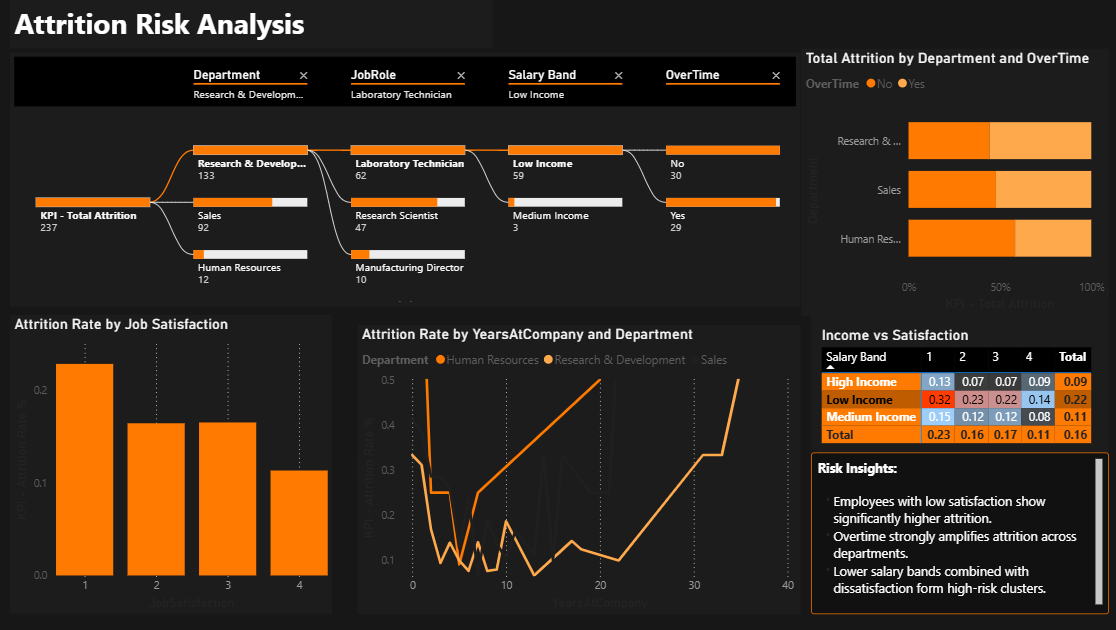

The dashboard page shown, as its layout file describes it:
{"tool":"powerbi","page":{"name":"Attrition Risk Analysis","canvas":[1280,720],"ordinal":1},"visuals":[{"type":"textbox","box":[11.7,0,551.7,55],"z":0},{"type":"clusteredColumnChart","title":"Attrition Rate by Job Satisfaction","fields":{"Category":["WA_Fn-UseC_-HR-Employee-Attrition.JobSatisfaction"],"Y":["WA_Fn-UseC_-HR-Employee-Attrition.KPI - Attrition Rate %"]},"box":[11.7,360,368.3,341.7],"z":1000},{"type":"lineChart","title":"Attrition Rate by YearsAtCompany and Department","fields":{"Category":["WA_Fn-UseC_-HR-Employee-Attrition.YearsAtCompany"],"Y":["WA_Fn-UseC_-HR-Employee-Attrition.KPI - Attrition Rate %"],"Series":["WA_Fn-UseC_-HR-Employee-Attrition.Department"]},"box":[408.3,371.7,506.7,330],"z":2000},{"type":"hundredPercentStackedBarChart","title":"Total Attrition by Department and OverTime","fields":{"Category":["WA_Fn-UseC_-HR-Employee-Attrition.Department"],"Series":["WA_Fn-UseC_-HR-Employee-Attrition.OverTime"],"Y":["WA_Fn-UseC_-HR-Employee-Attrition.KPI - Total Attrition"]},"box":[915,55,351.7,305],"z":3000},{"type":"decompositionTreeVisual","title":"Attrition Driver Analysis","fields":{"Analyze":["WA_Fn-UseC_-HR-Employee-Attrition.KPI - Total Attrition"],"ExplainBy":["WA_Fn-UseC_-HR-Employee-Attrition.Department","WA_Fn-UseC_-HR-Employee-Attrition.JobRole","WA_Fn-UseC_-HR-Employee-Attrition.Salary Band","WA_Fn-UseC_-HR-Employee-Attrition.OverTime"]},"box":[11.7,60,903.3,290],"z":4000},{"type":"shape","box":[926.7,356.7,340,156.7],"z":5000},{"type":"pivotTable","title":"Income vs Satisfaction","fields":{"Rows":["WA_Fn-UseC_-HR-Employee-Attrition.Salary Band"],"Columns":["WA_Fn-UseC_-HR-Employee-Attrition.JobSatisfaction"],"Values":["WA_Fn-UseC_-HR-Employee-Attrition.KPI - Attrition Rate %"]},"box":[934.4,372.2,332.2,144.4],"z":6000},{"type":"textbox","box":[926.7,516.7,340,185],"z":7000}]}

Visuals, with their boxes in screenshot pixels (x1, y1, x2, y2), scaled from the page's 1280x720 canvas onto the 1116x630 screenshot:
textbox: {"left": 10, "top": 0, "right": 491, "bottom": 48}
"Attrition Rate by Job Satisfaction" clusteredColumnChart: {"left": 10, "top": 315, "right": 331, "bottom": 614}
"Attrition Rate by YearsAtCompany and Department" lineChart: {"left": 356, "top": 325, "right": 798, "bottom": 614}
"Total Attrition by Department and OverTime" hundredPercentStackedBarChart: {"left": 798, "top": 48, "right": 1104, "bottom": 315}
"Attrition Driver Analysis" decompositionTreeVisual: {"left": 10, "top": 52, "right": 798, "bottom": 306}
shape: {"left": 808, "top": 312, "right": 1104, "bottom": 449}
"Income vs Satisfaction" pivotTable: {"left": 815, "top": 326, "right": 1104, "bottom": 452}
textbox: {"left": 808, "top": 452, "right": 1104, "bottom": 614}
